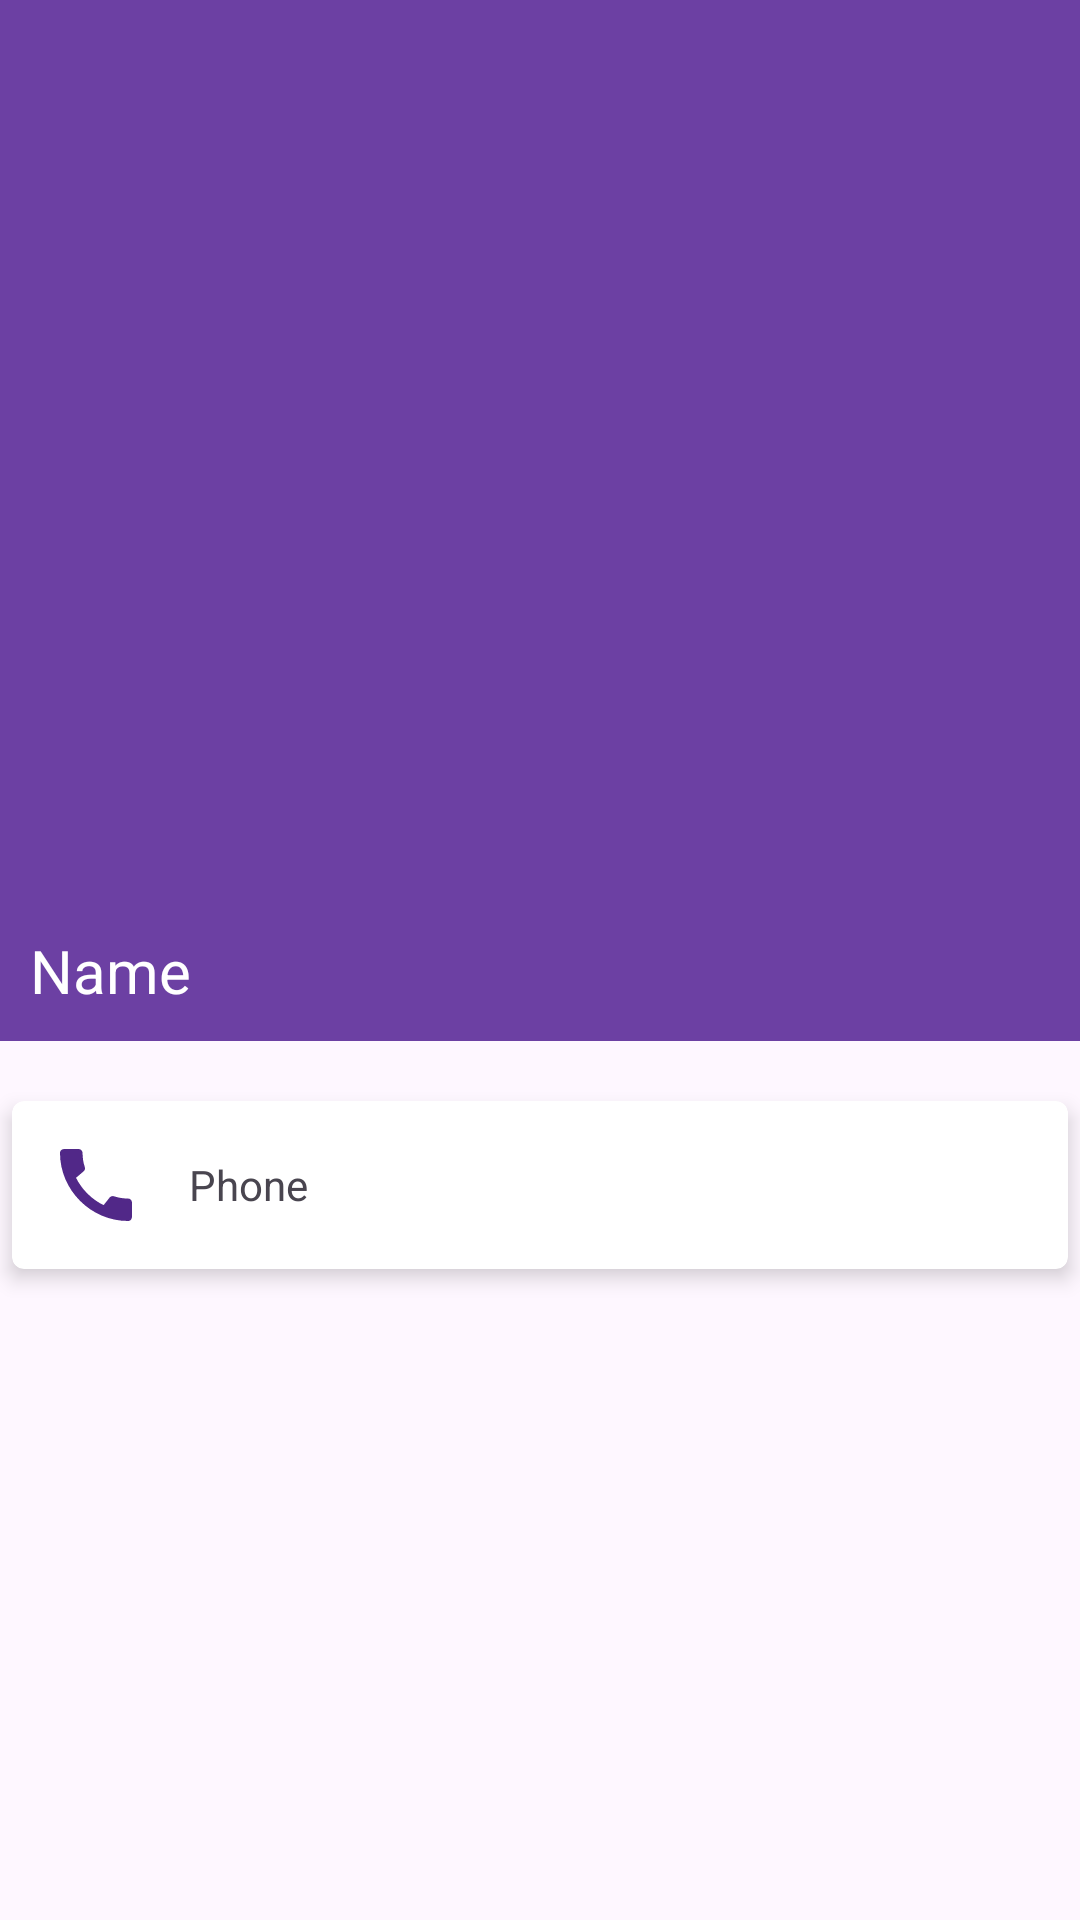

Named icons in this screenshot (1080w x 1920h) and their bounding boxes, (x1, y1, x2, y2):
call: (60, 1149, 132, 1221)
